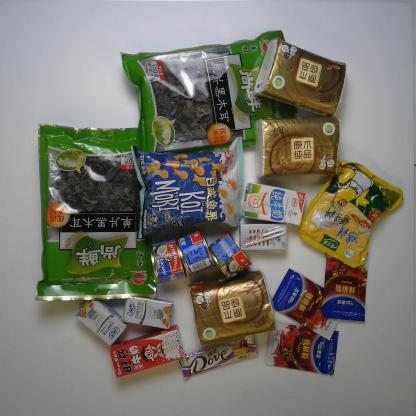Canned Food: (207, 232, 252, 281), (176, 230, 216, 277), (149, 238, 186, 284)
Chocolate: (176, 333, 259, 380)
Dried Food: (119, 28, 301, 161), (35, 122, 160, 302)
Milk: (110, 324, 184, 378), (241, 182, 307, 226), (73, 296, 128, 348), (122, 294, 173, 329), (238, 220, 288, 253)
Puffed Food: (130, 136, 246, 240)
Seasoner: (297, 159, 404, 269), (267, 266, 346, 341), (263, 321, 339, 377), (320, 247, 370, 324)
Tissue: (254, 37, 347, 116), (187, 269, 277, 346), (256, 115, 339, 180)
